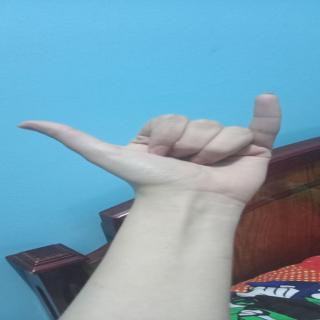YA: (19, 91, 309, 179)
